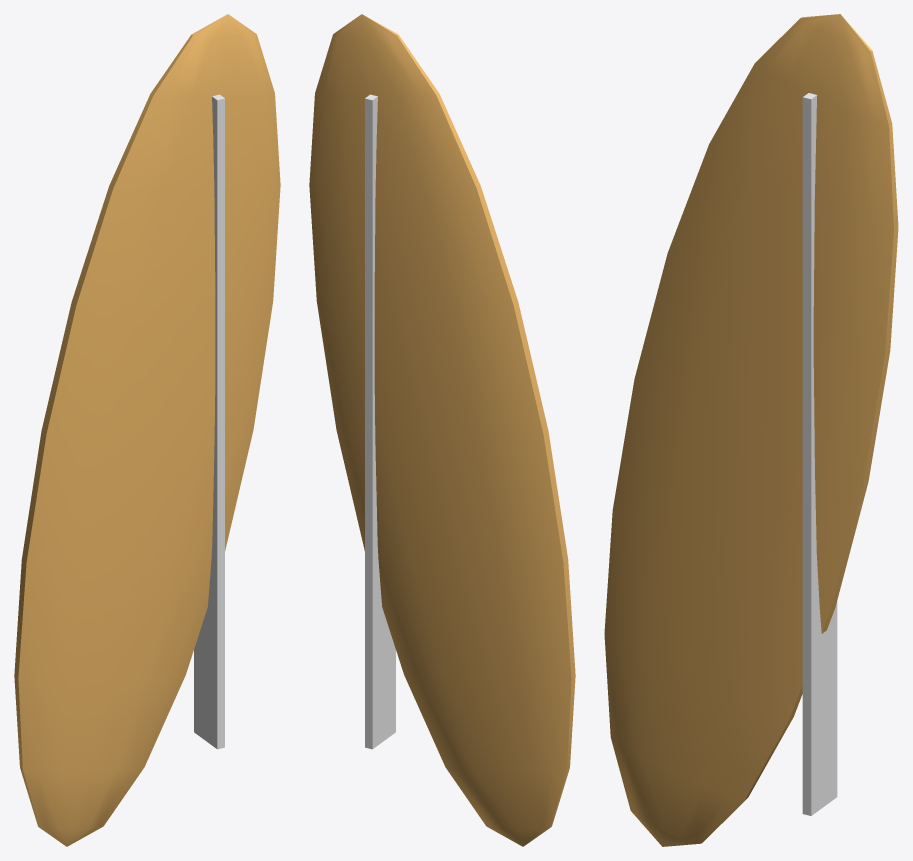
The model's file is prancha.glb.
3 renders of one model, left to right at view 1: azimuth 30°, elevation 25°; view 2: azimuth 150°, elevation 25°; view 3: azimuth 330°, elevation 25°, orthographic. The views are drawn at different scales.
Visible parts, largest first — view 1: prancha; view 2: prancha; view 3: prancha.
Part boxes in pixels (x1,y1,x2,y2): prancha: (14, 14, 280, 846); prancha: (309, 14, 575, 846); prancha: (604, 14, 898, 846).
Size of the model in its own units: 0.6765 by 1.96 by 0.105.
